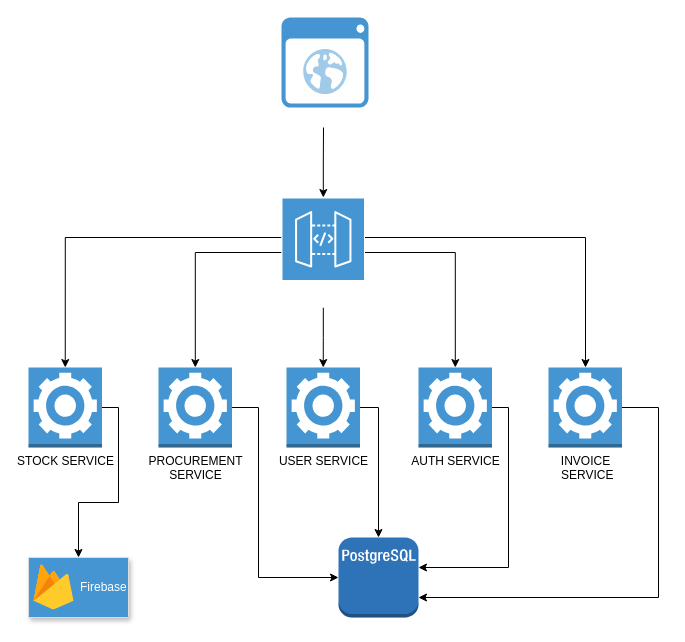
Some shapes in this 685 by 642 pixel diagram are drawn without their labels. The shapes that lost their labels are listed below. From the top down, each one's centre as x and y in pixels, then its label:
At point (324, 62): "USER INTERFACE".
At point (322, 252): "API Gateway".
